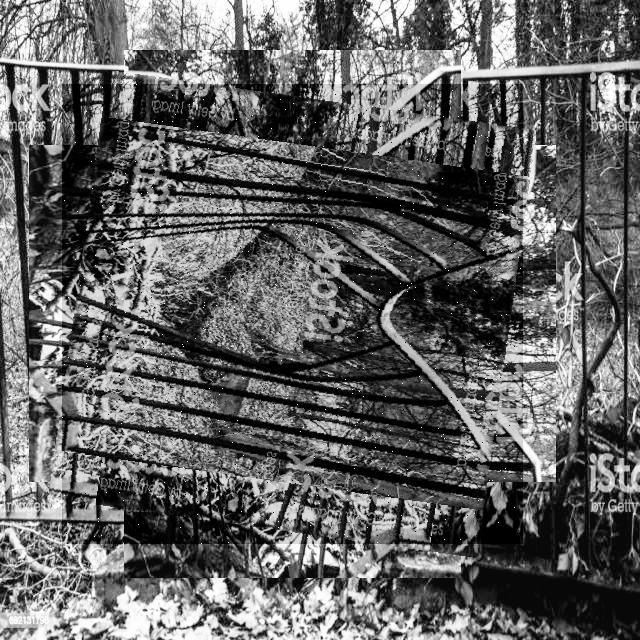anomaly-fence: (62, 84, 523, 544)
